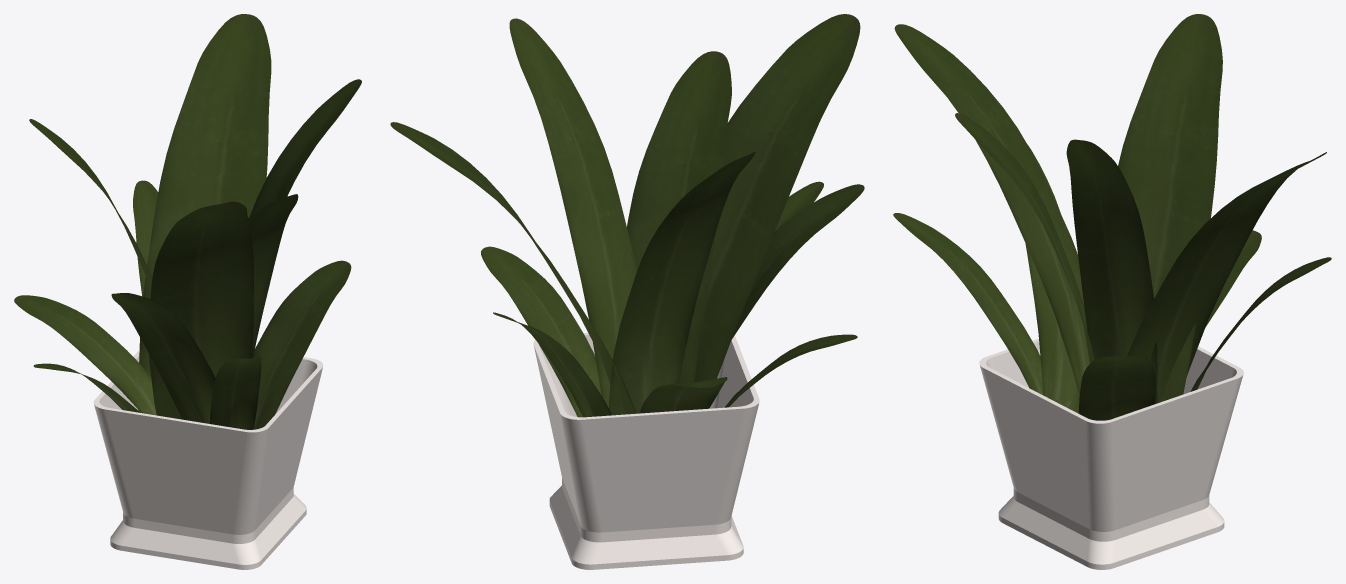
Rendered from plant.glb.
The picture shows the model from 3 angles, left to right: view 1: azimuth 30°, elevation 25°; view 2: azimuth 150°, elevation 25°; view 3: azimuth 270°, elevation 25°; orthographic projection. The views are drawn at different scales.
Visible parts, largest first — view 1: pot, plant, plant.009, plant.002, plant.008, plant.010, plant.004, plant.007, plant.001, plant.003, plant.005, plant.006; view 2: pot, plant.009, plant.004, plant.005, plant.001, plant.002, plant.008, plant, plant.003, plant.010, plant.006, plant.007; view 3: pot, plant.005, plant.004, plant.009, plant, plant.007, plant.002, plant.008, plant.001, plant.003, plant.010.
Boxes of the visible parts, box(x1,y1,x2,y2) form: pot: box(93, 350, 323, 569); plant: box(138, 14, 271, 412); plant.009: box(149, 201, 253, 419); plant.002: box(253, 260, 351, 429); plant.008: box(111, 293, 215, 423); plant.010: box(14, 295, 156, 415); plant.004: box(249, 79, 361, 216); plant.007: box(210, 356, 261, 429); plant.001: box(248, 194, 298, 358); plant.003: box(133, 180, 158, 296); plant.005: box(29, 119, 152, 289); plant.006: box(33, 363, 139, 412); pot: box(533, 333, 759, 569); plant.009: box(694, 14, 860, 381); plant.004: box(509, 18, 636, 407); plant.005: box(609, 152, 755, 415); plant.001: box(627, 51, 731, 383); plant.002: box(481, 246, 601, 417); plant.008: box(731, 184, 864, 339); plant: box(390, 122, 636, 414); plant.003: box(493, 312, 611, 417); plant.010: box(640, 377, 727, 413); plant.006: box(724, 334, 857, 407); plant.007: box(775, 181, 823, 230); pot: box(979, 338, 1243, 569); plant.005: box(1118, 14, 1222, 402); plant.004: box(1066, 139, 1157, 403); plant.009: box(894, 24, 1089, 395); plant: box(1127, 152, 1326, 403); plant.007: box(893, 213, 1058, 403); plant.002: box(1079, 355, 1155, 420); plant.008: box(1025, 145, 1079, 413); plant.001: box(955, 113, 1094, 363); plant.003: box(1190, 257, 1331, 391); plant.010: box(1205, 230, 1261, 326).
Size of the model in its own units: 0.2712 by 0.3343 by 0.2924.
Materials: 12 (11 with a texture image).
